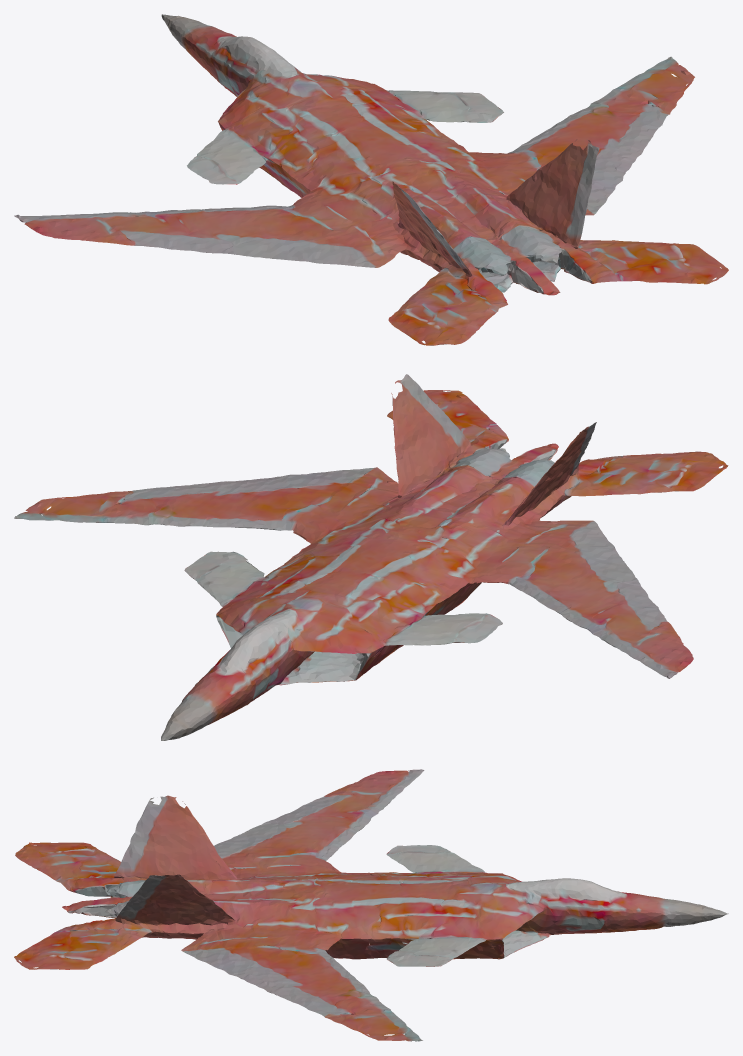
3 views of the same model, one above another, from view 1: azimuth 30°, elevation 25°; view 2: azimuth 150°, elevation 25°; view 3: azimuth 270°, elevation 25° (orthographic). The views are drawn at different scales.
Visible parts, largest first — view 1: defaultobject; view 2: defaultobject; view 3: defaultobject.
Boxes of the visible parts, x1,y1,x2,y2 form: defaultobject: [14, 14, 728, 345]; defaultobject: [14, 374, 728, 740]; defaultobject: [14, 769, 728, 1041].
Size of the model in its own units: 0.8478 by 0.145 by 0.9452.
